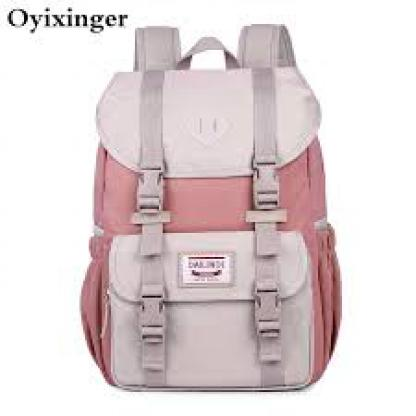morral: (78, 11, 353, 403)
